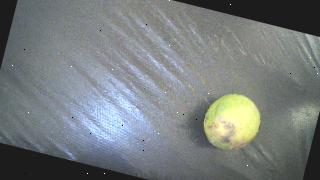DESECHO: (198, 88, 266, 157)
